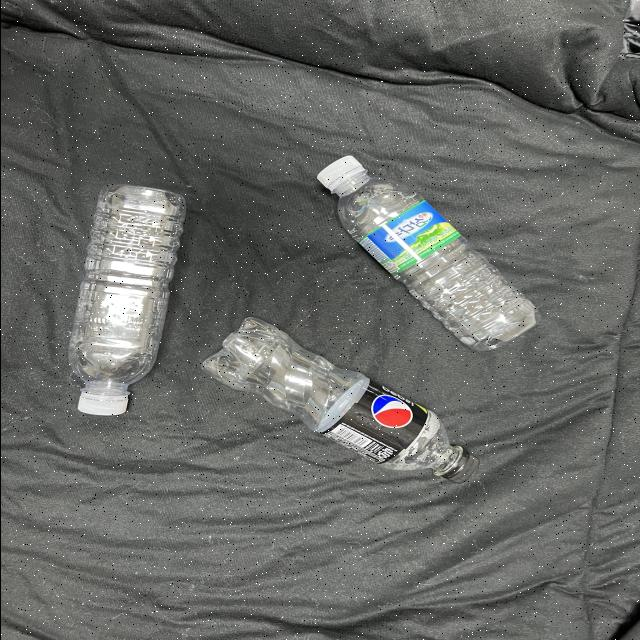plastic: (183, 302, 501, 508), (299, 138, 560, 368), (53, 170, 203, 427)
